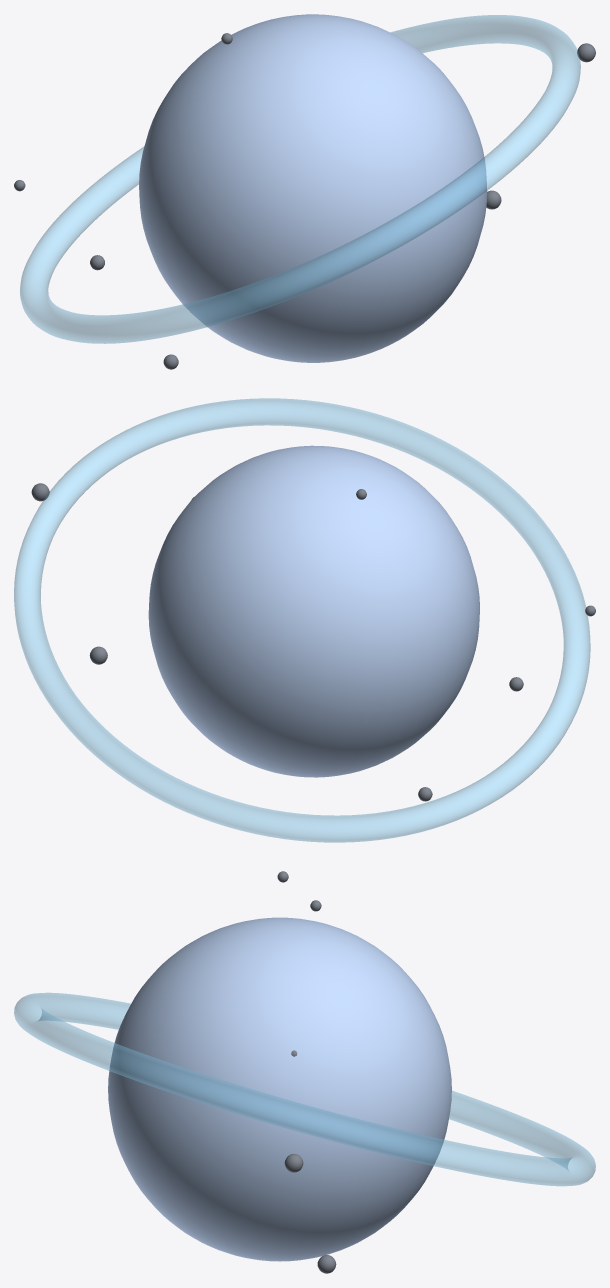
Rendered from space-p1-white-dwarf.glb.
3 renders of one model, top to bottom at view 1: azimuth 30°, elevation 25°; view 2: azimuth 150°, elevation 25°; view 3: azimuth 270°, elevation 25°, orthographic. The views are drawn at different scales.
Visible parts, largest first — view 1: faint-cooling-glow-shell, leftover-planetary-nebula-ring; view 2: faint-cooling-glow-shell, leftover-planetary-nebula-ring; view 3: faint-cooling-glow-shell, leftover-planetary-nebula-ring.
Boxes of the visible parts, <box> form: faint-cooling-glow-shell: <box>139,14,487,362</box>; leftover-planetary-nebula-ring: <box>20,15,580,343</box>; faint-cooling-glow-shell: <box>148,445,479,777</box>; leftover-planetary-nebula-ring: <box>14,398,590,842</box>; faint-cooling-glow-shell: <box>108,917,451,1261</box>; leftover-planetary-nebula-ring: <box>14,992,595,1186</box>.
Size of what is drawn, in the model's own units: 2.13 by 1.1 by 1.86.
